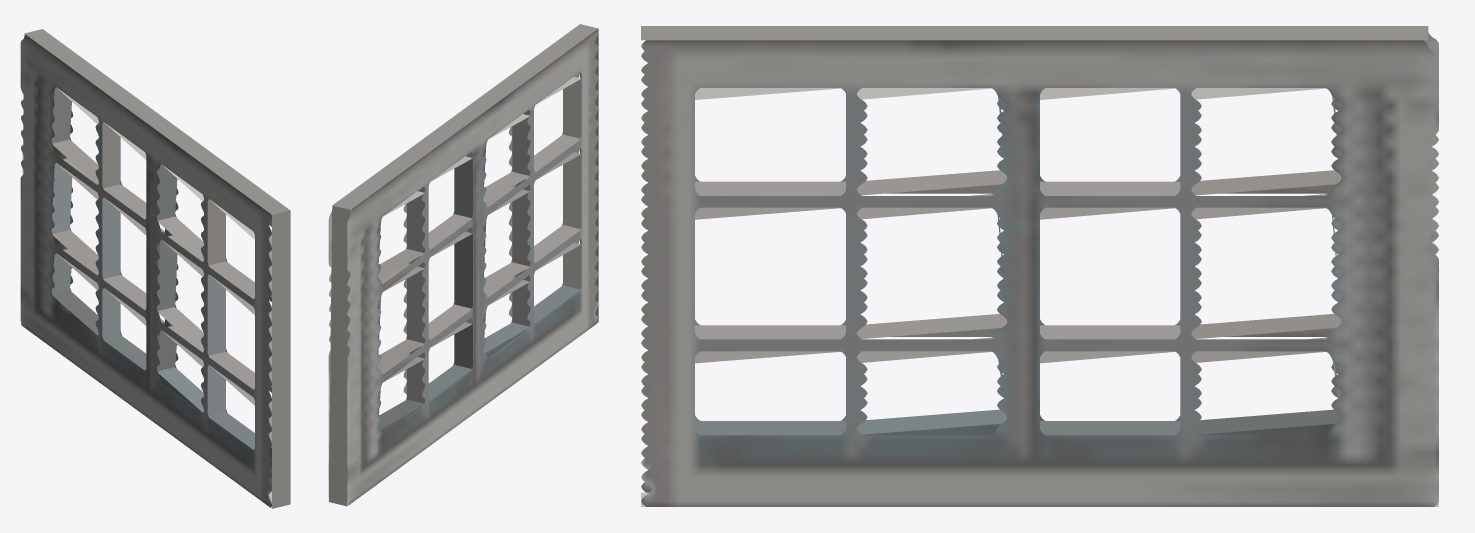
File: pz_native_fixtures_windows_01_8_frame.obj
The picture shows the model from 3 angles, left to right: view 1: azimuth 30°, elevation 25°; view 2: azimuth 150°, elevation 25°; view 3: azimuth 270°, elevation 25°; orthographic projection. The views are drawn at different scales.
Parts seen in each view (by area): view 1: pz_native_fixtures_windows_01_8_frame; view 2: pz_native_fixtures_windows_01_8_frame; view 3: pz_native_fixtures_windows_01_8_frame.
Boxes of the visible parts, x1,y1,x2,y2 form: pz_native_fixtures_windows_01_8_frame: (20,29,290,508); pz_native_fixtures_windows_01_8_frame: (328,24,598,506); pz_native_fixtures_windows_01_8_frame: (641,26,1438,506).
Size of the model in its own units: 0.04 by 0.6406 by 0.9823.
Materials: 1 (1 with a texture image).
